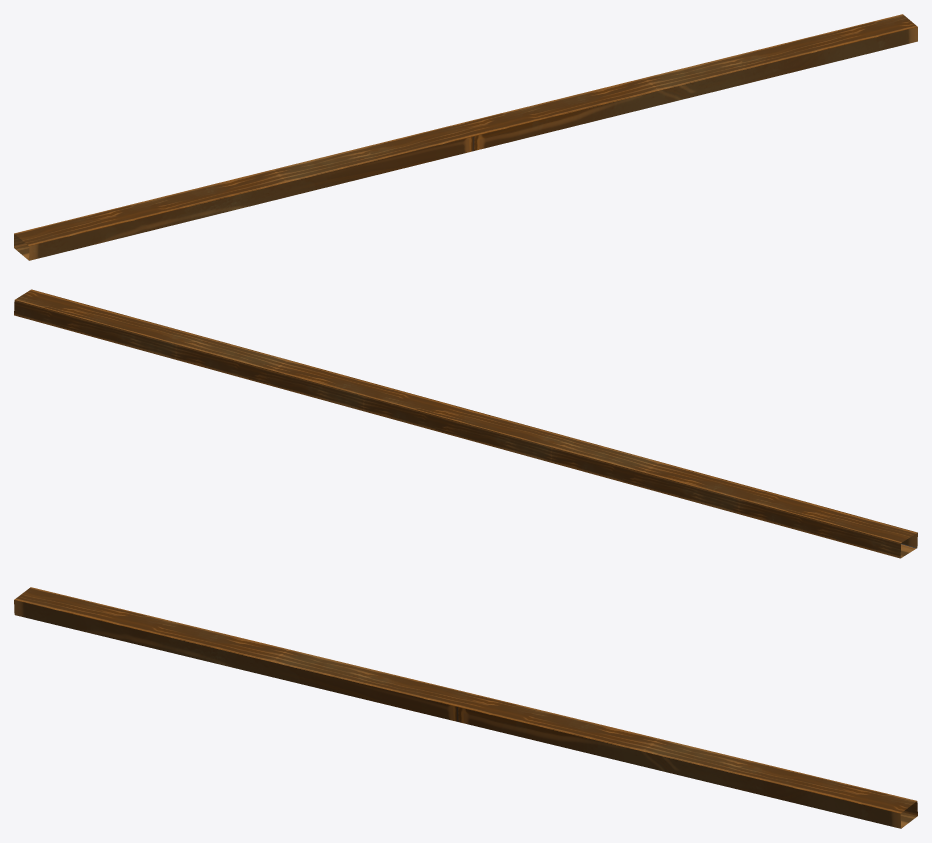
3 renders of one model, top to bottom at view 1: azimuth 30°, elevation 25°; view 2: azimuth 150°, elevation 25°; view 3: azimuth 330°, elevation 25°, orthographic. The views are drawn at different scales.
Parts seen in each view (by area): view 1: Cube.2015; view 2: Cube.2015; view 3: Cube.2015.
Part boxes in pixels (x1,y1,x2,y2): Cube.2015: (14,14,917,260); Cube.2015: (14,289,917,558); Cube.2015: (14,587,917,828).
Bounding box in the file's own units: 738 × 24.37 × 41.14.
1 material, 1 textured.
